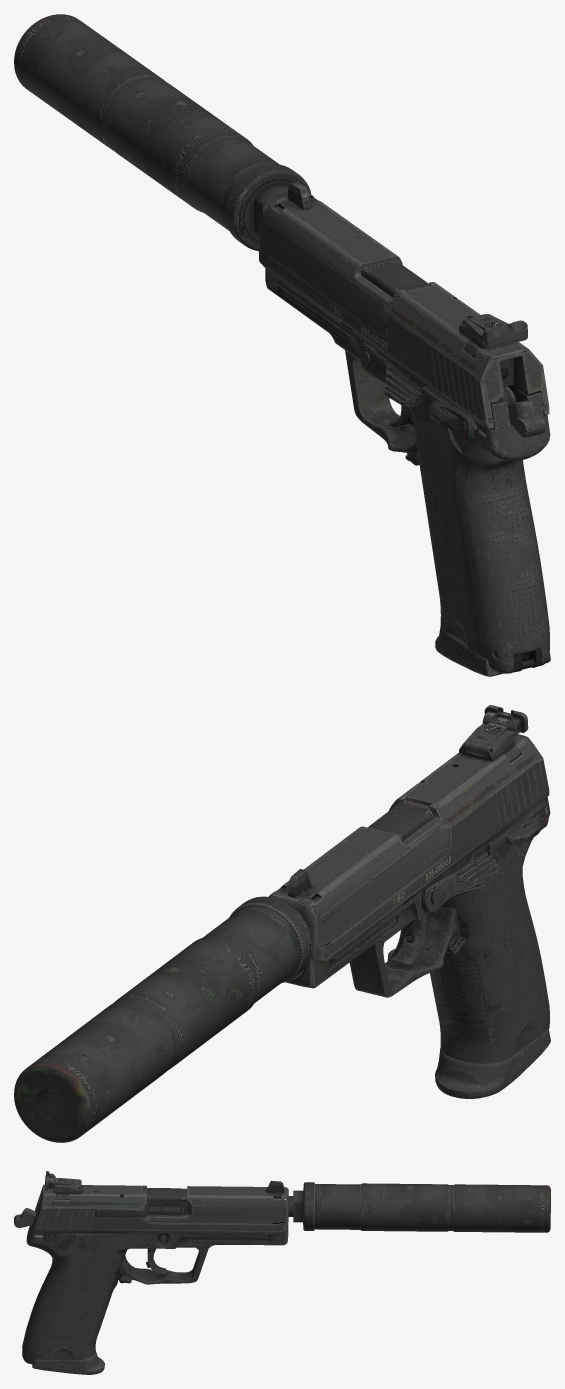
File: usp_r.glb
3 views of the same model, one above another, from view 1: azimuth 30°, elevation 25°; view 2: azimuth 150°, elevation 25°; view 3: azimuth 270°, elevation 25° (orthographic). The views are drawn at different scales.
Parts seen in each view (by area): view 1: v_usp_R; view 2: v_usp_R; view 3: v_usp_R.
Boxes of the visible parts, x1,y1,x2,y2 form: v_usp_R: (14,14,550,676); v_usp_R: (14,705,550,1142); v_usp_R: (14,1171,550,1374).
Size of the model in its own units: 0.046 by 0.173 by 0.4359.
1 material, 1 textured.
